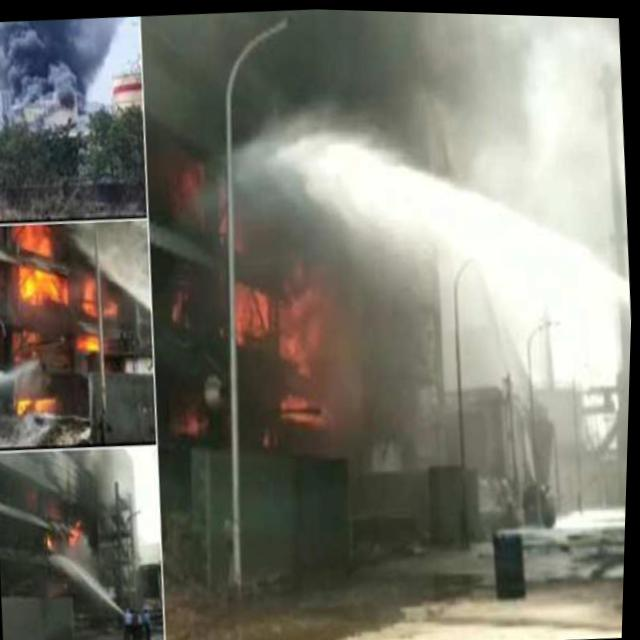fire: (274, 283, 334, 377), (11, 222, 71, 313), (233, 273, 277, 351), (276, 389, 338, 426), (79, 267, 117, 321), (15, 390, 67, 421), (177, 162, 208, 213), (177, 408, 204, 439), (67, 517, 93, 549), (75, 330, 106, 354), (46, 532, 58, 551)
